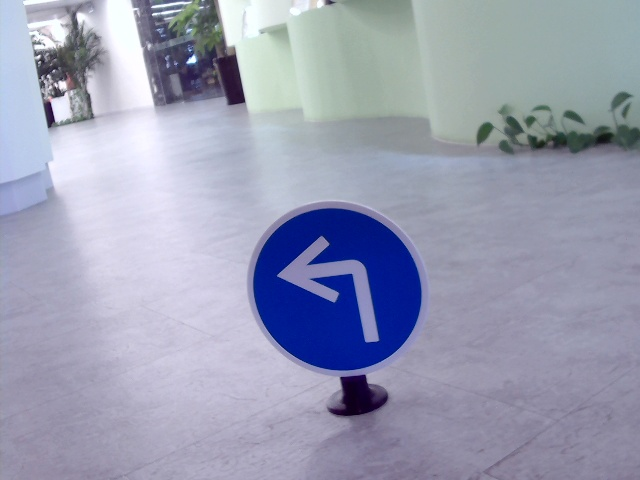turn_left: (280, 229, 383, 343)
